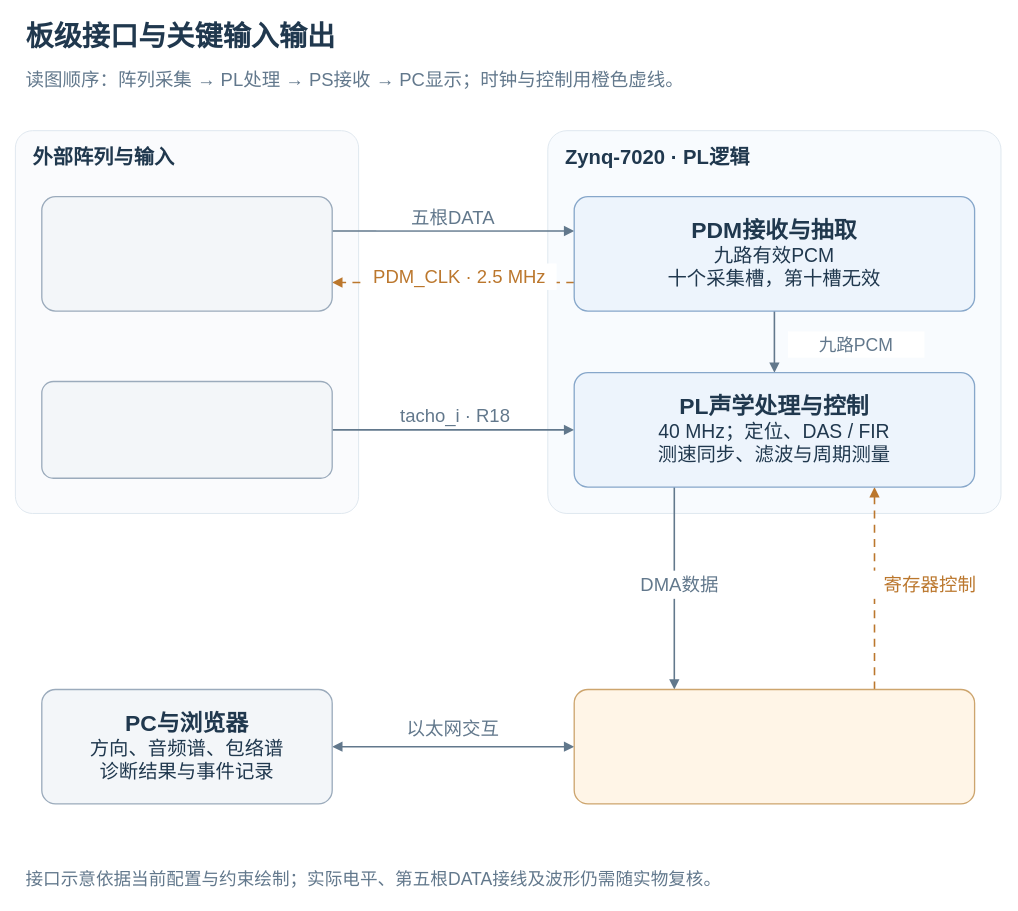
Some shapes in this 1018 by 911 pixel diagram are drawn without their labels. Here are the shapes that lost their labels. From the top down, the centre of each, then its label:
At pixel 186 253: "九麦阵列板 IM73D122，配置供电3.3 V 五根双相DATA".
At pixel 186 429: "外部测速脉冲 每转脉冲数由软件配置".
At pixel 774 746: "PS双核与DDR AXI4-Lite控制寄存器 64位HP0接收DMA记录".
